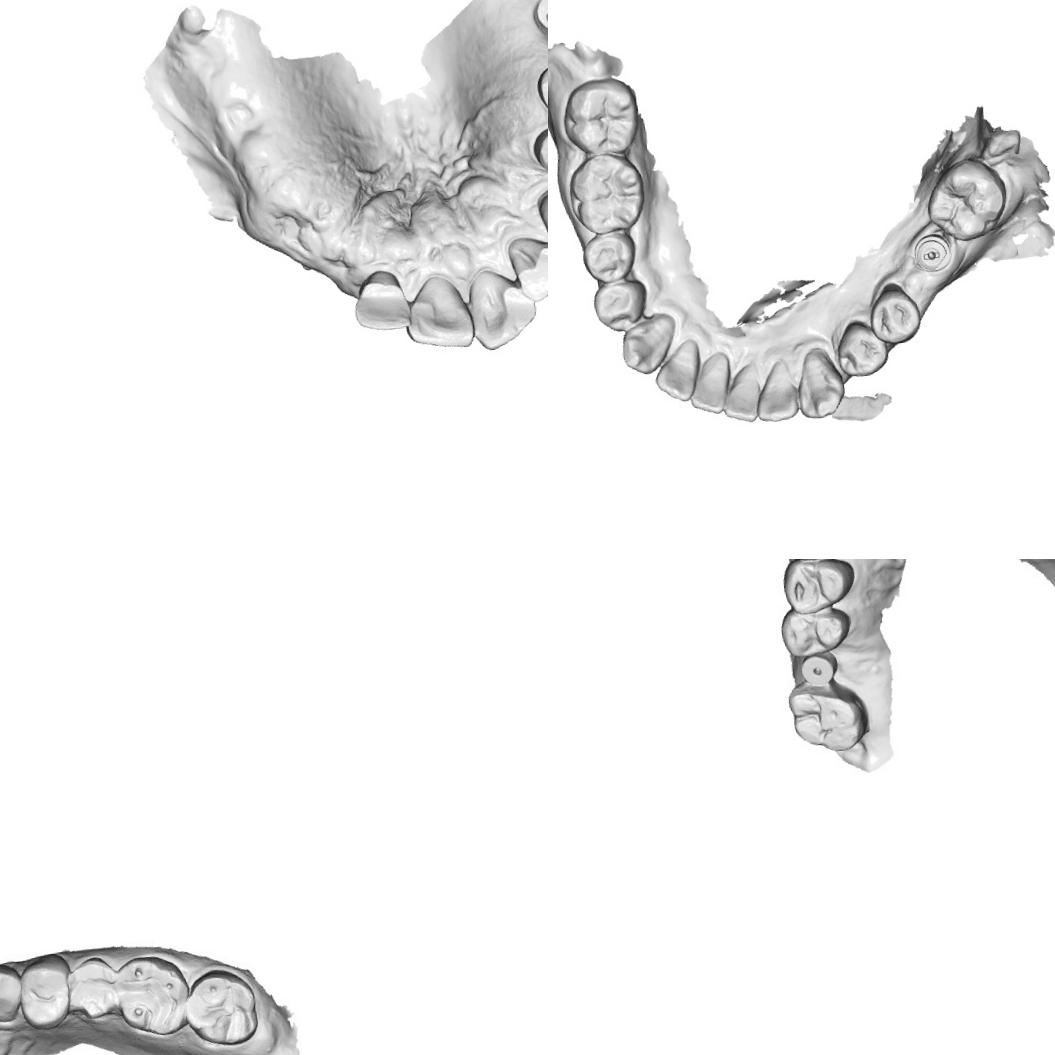canine: (792, 344, 848, 422), (617, 312, 680, 378), (0, 960, 23, 1032)
implant: (795, 644, 839, 691), (530, 0, 548, 37)
implant_minus: (912, 230, 954, 274)
incisor: (399, 270, 480, 355), (467, 269, 541, 353), (348, 266, 412, 335), (650, 337, 704, 405), (503, 229, 548, 306), (751, 358, 801, 424), (686, 352, 734, 417), (718, 362, 764, 425)
molar: (922, 154, 1012, 246), (180, 956, 260, 1052), (564, 151, 648, 238), (558, 74, 642, 160), (786, 679, 872, 760), (113, 952, 190, 1038)
premolar: (778, 599, 859, 658), (776, 559, 859, 616), (15, 960, 76, 1028), (864, 278, 924, 347), (62, 955, 122, 1018), (833, 319, 891, 379), (590, 278, 650, 336), (579, 229, 639, 286), (529, 116, 548, 191)
